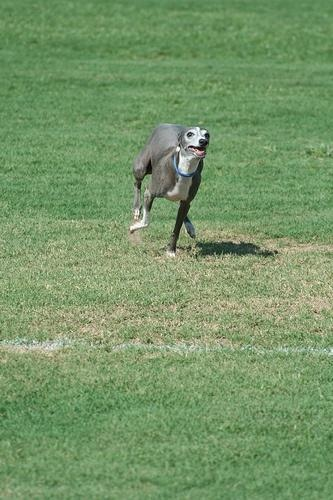dog: (128, 121, 214, 263)
